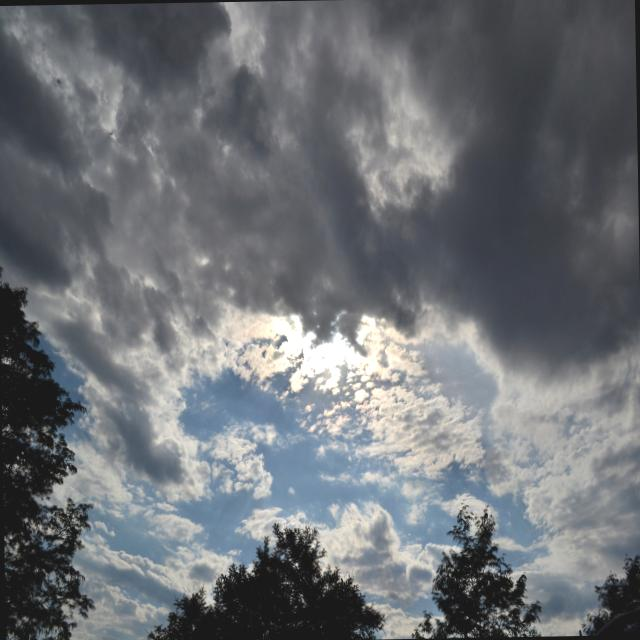nimbostratus: (0, 0, 640, 406)
